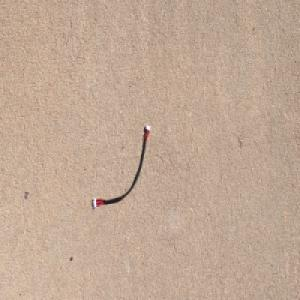Wire: (92, 123, 151, 209)
